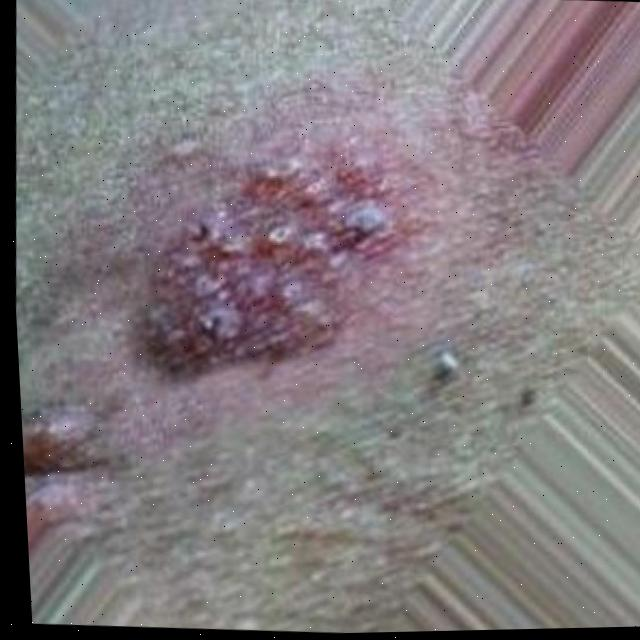Shingles: (127, 120, 420, 398)
